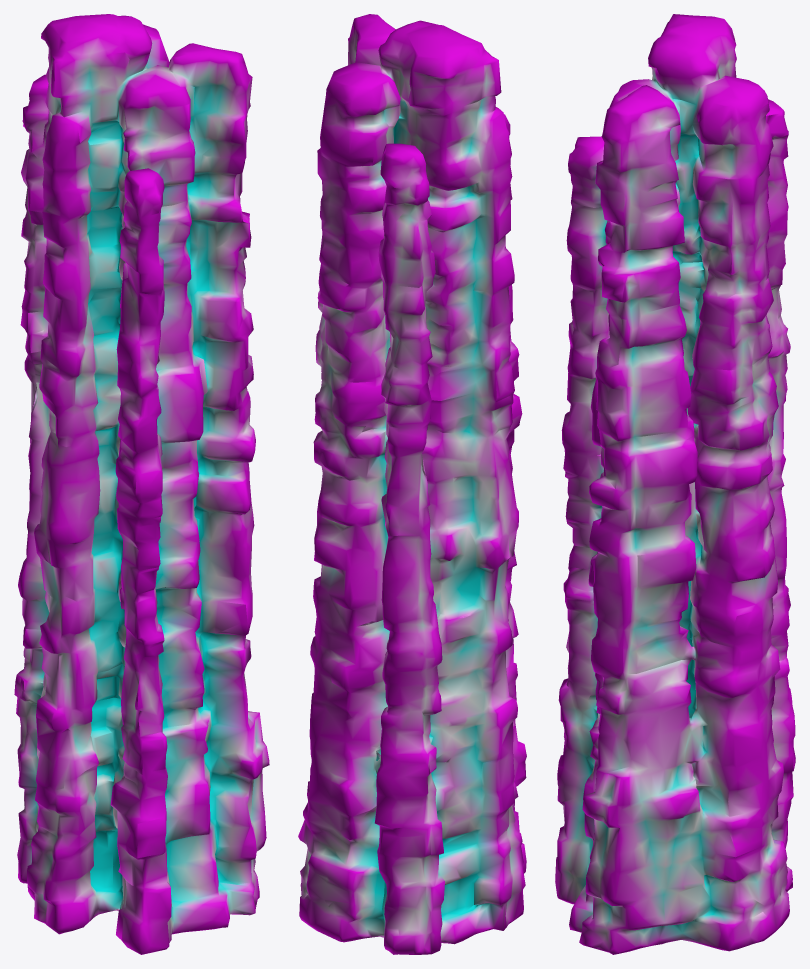
File: Macico_2_Longe.fbx
The picture shows the model from 3 angles, left to right: view 1: azimuth 30°, elevation 25°; view 2: azimuth 150°, elevation 25°; view 3: azimuth 270°, elevation 25°; orthographic projection.
Parts seen in each view (by area): view 1: Macico_2_Longe; view 2: Macico_2_Longe; view 3: Macico_2_Longe.
Part boxes in pixels (<box>): Macico_2_Longe: <box>14,14,269,954</box>; Macico_2_Longe: <box>298,14,526,954</box>; Macico_2_Longe: <box>555,14,795,954</box>.
Bounding box in the file's own units: 92.32 × 385 × 96.15.
